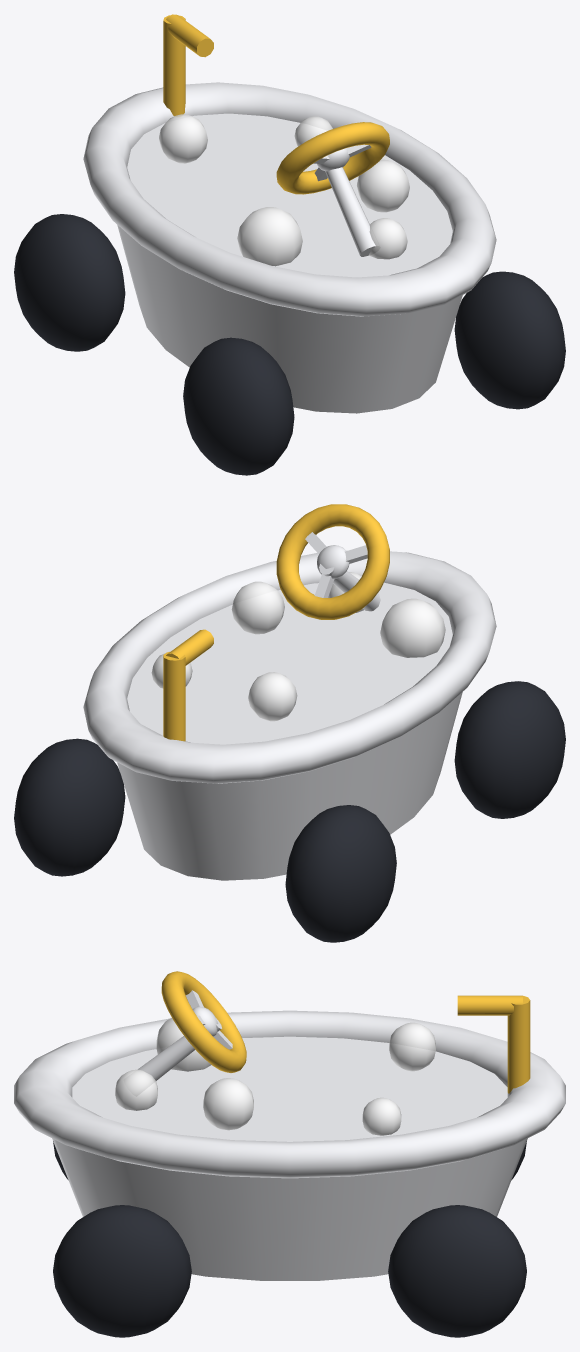
Rendered from kart-tub.glb.
3 views of the same model, one above another, from view 1: azimuth 30°, elevation 25°; view 2: azimuth 150°, elevation 25°; view 3: azimuth 270°, elevation 25° (orthographic).
Parts seen in each view (by area): view 1: kart-tub; view 2: kart-tub; view 3: kart-tub.
Boxes of the visible parts, x1,y1,x2,y2 form: kart-tub: (14, 14, 565, 475); kart-tub: (14, 504, 565, 942); kart-tub: (14, 971, 565, 1337).
Bounding box in the file's own units: 2.01 × 1.57 × 2.7.
